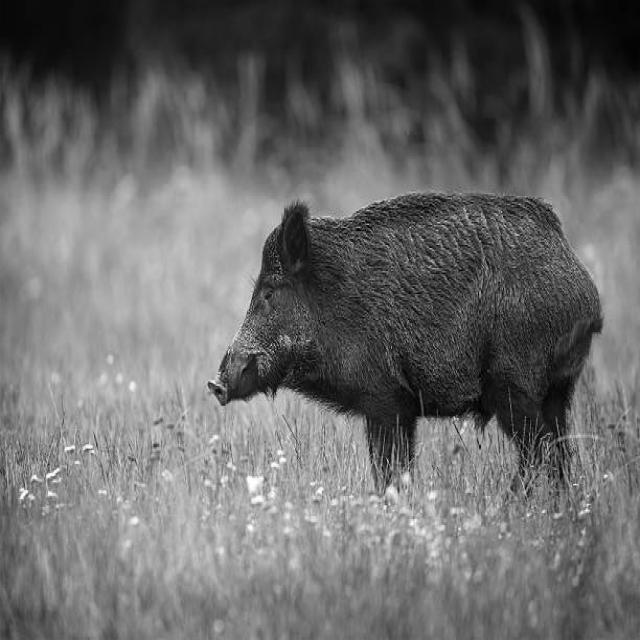boar: (208, 191, 600, 485)
